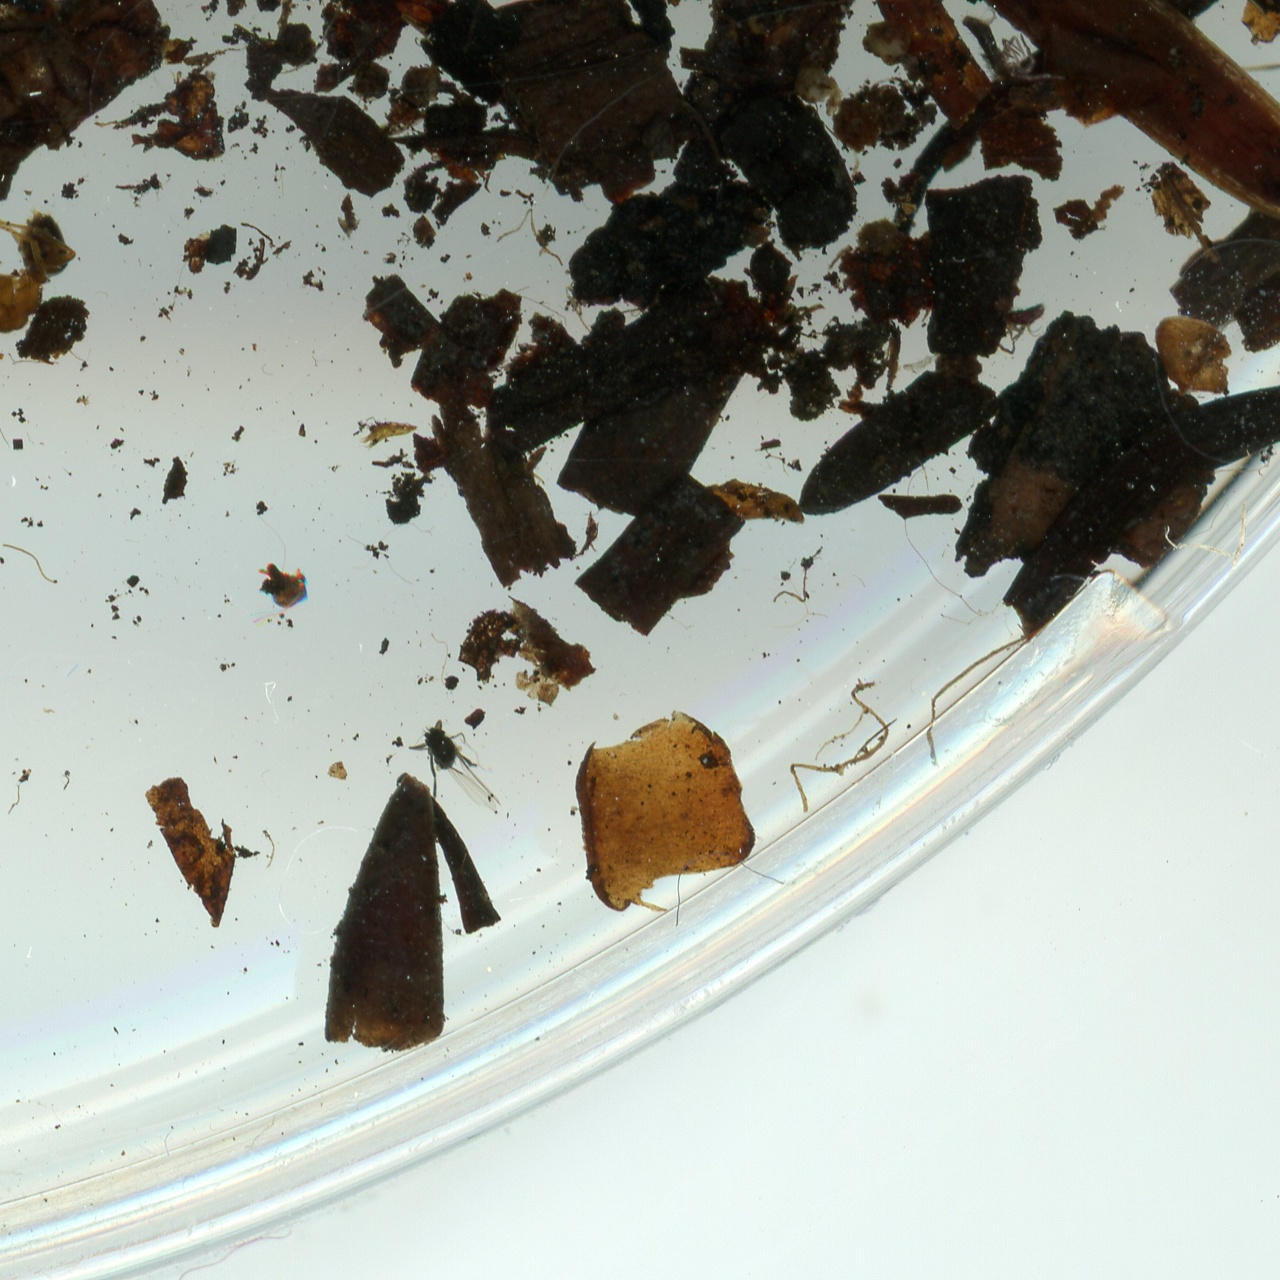arthropod: (0, 202, 80, 370), (409, 720, 502, 817), (960, 13, 1062, 90), (993, 305, 1047, 340)
